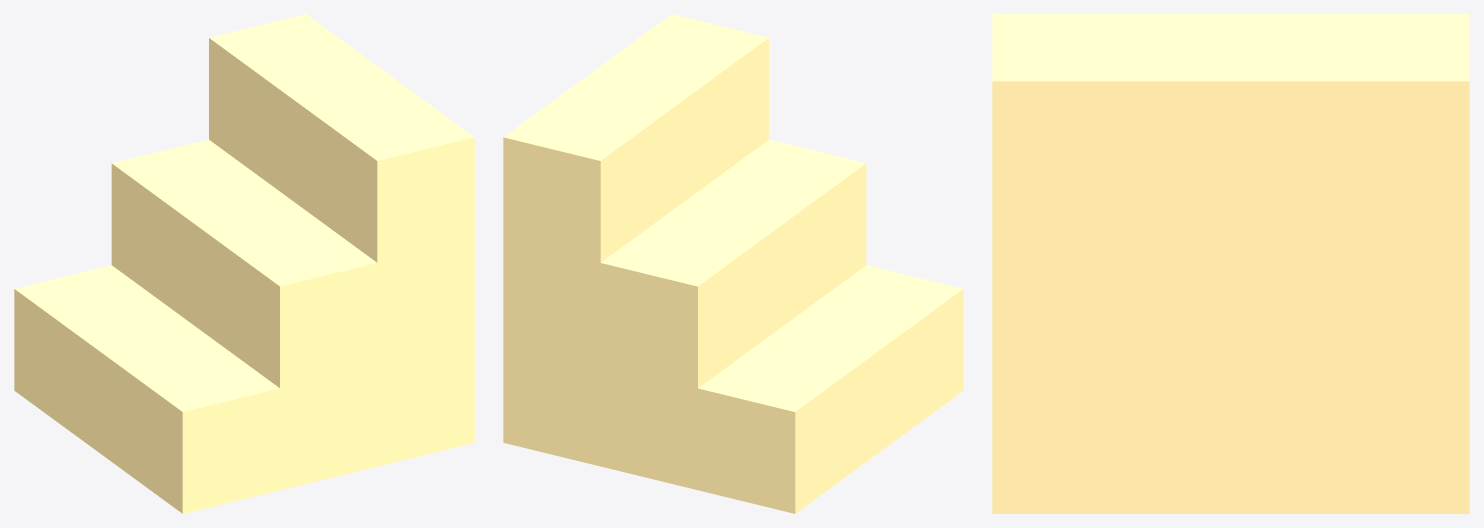
Rendered from steps_small.glb.
3 renders of one model, left to right at view 1: azimuth 30°, elevation 25°; view 2: azimuth 150°, elevation 25°; view 3: azimuth 270°, elevation 25°, orthographic. The views are drawn at different scales.
Parts seen in each view (by area): view 1: StepsSmall_Step2-convcol, StepsSmall_Step1-convcol, StepsSmall_Step0-convcol; view 2: StepsSmall_Step2-convcol, StepsSmall_Step1-convcol, StepsSmall_Step0-convcol; view 3: StepsSmall_Step2-convcol.
Part boxes in pixels (box(x1,y1,x2,y2)): StepsSmall_Step2-convcol: box(209, 14, 474, 466); StepsSmall_Step1-convcol: box(111, 139, 377, 490); StepsSmall_Step0-convcol: box(14, 265, 279, 513); StepsSmall_Step2-convcol: box(503, 14, 768, 466); StepsSmall_Step1-convcol: box(600, 139, 866, 490); StepsSmall_Step0-convcol: box(698, 265, 963, 513); StepsSmall_Step2-convcol: box(992, 14, 1469, 513).
Bounding box in the file's own units: 4.05 × 4.05 × 4.05.
